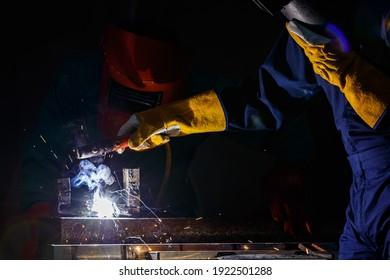gloves: (283, 22, 390, 127), (114, 88, 230, 154)
